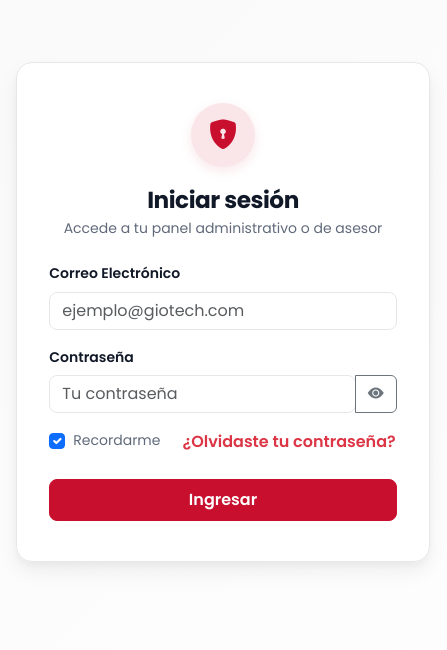
Test: Login Component & Error Mapping › handles password reset request with success message
In the field with placeholder "ejemplo@giotech.com": (223, 311) [49,292,397,330], type "usuario@giotech.com"
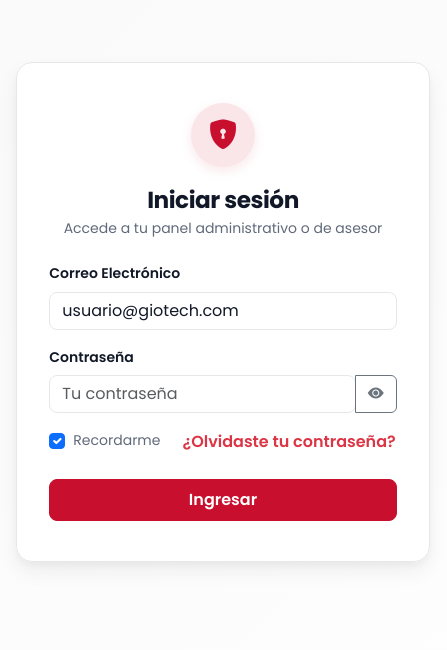
Click the button "¿Olvidaste tu contraseña?": click(289, 442) [182,429,397,455]
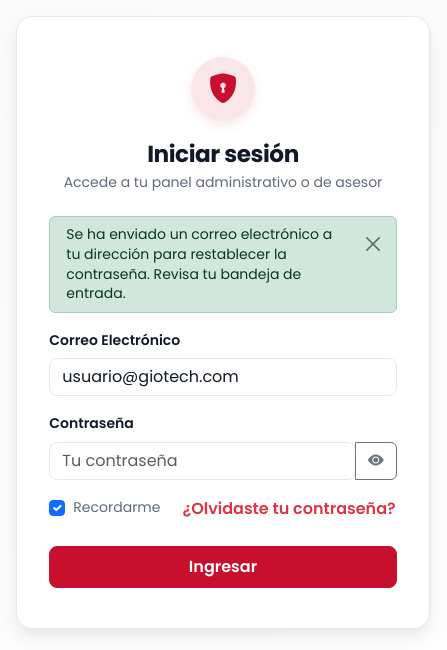
Expected: the text "Se ha enviado un correo electrónico a tu dirección" is shown, [66,224,332,303]
